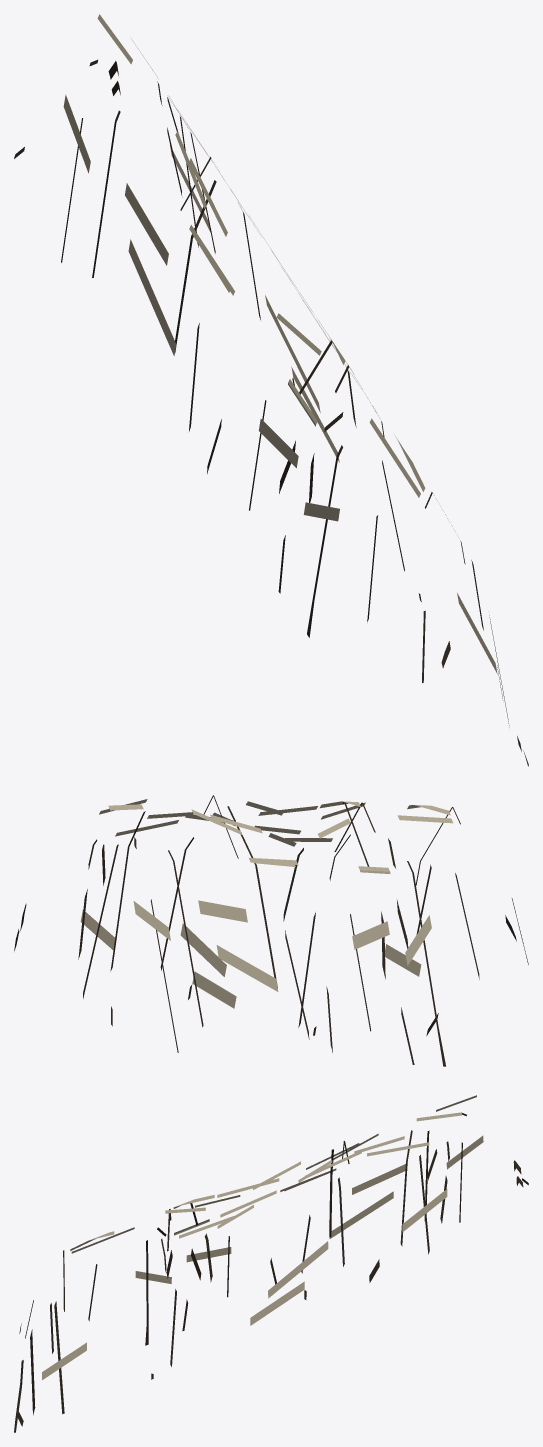
Rendered from dam_eye_chute_west_detail1.glb.
3 views of the same model, one above another, from view 1: azimuth 30°, elevation 25°; view 2: azimuth 150°, elevation 25°; view 3: azimuth 270°, elevation 25° (orthographic). The views are drawn at different scales.
Parts seen in each view (by area): view 1: dam_eye_chute_west_detail1; view 2: dam_eye_chute_west_detail1; view 3: dam_eye_chute_west_detail1.
Part boxes in pixels (<box>): dam_eye_chute_west_detail1: <box>14,14,528,766</box>; dam_eye_chute_west_detail1: <box>14,795,528,1066</box>; dam_eye_chute_west_detail1: <box>14,1095,528,1432</box>.
Bounding box in the file's own units: 8 × 32.78 × 48.15.
